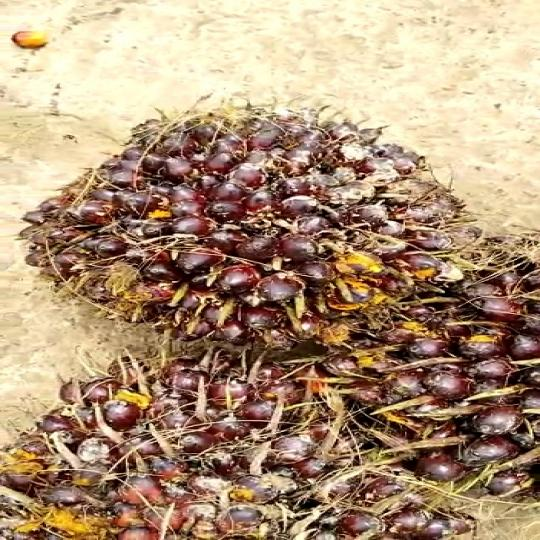kurang masak: (32, 103, 473, 370), (0, 334, 470, 539)
